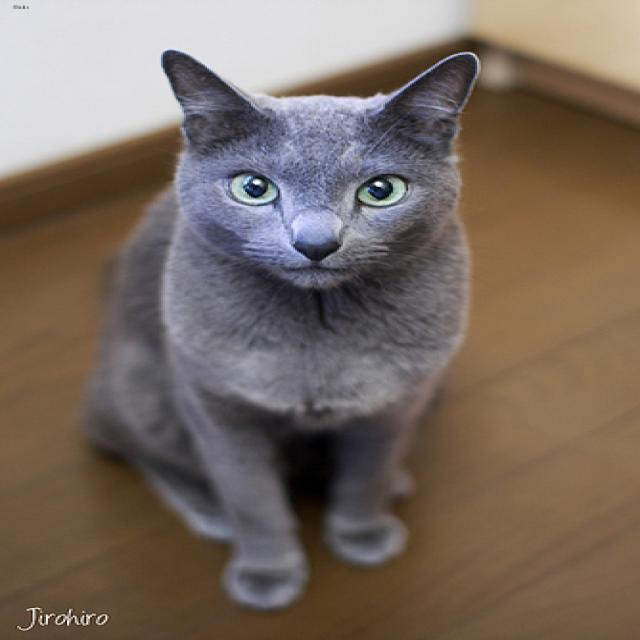Russian_Blue: (152, 43, 494, 292)
